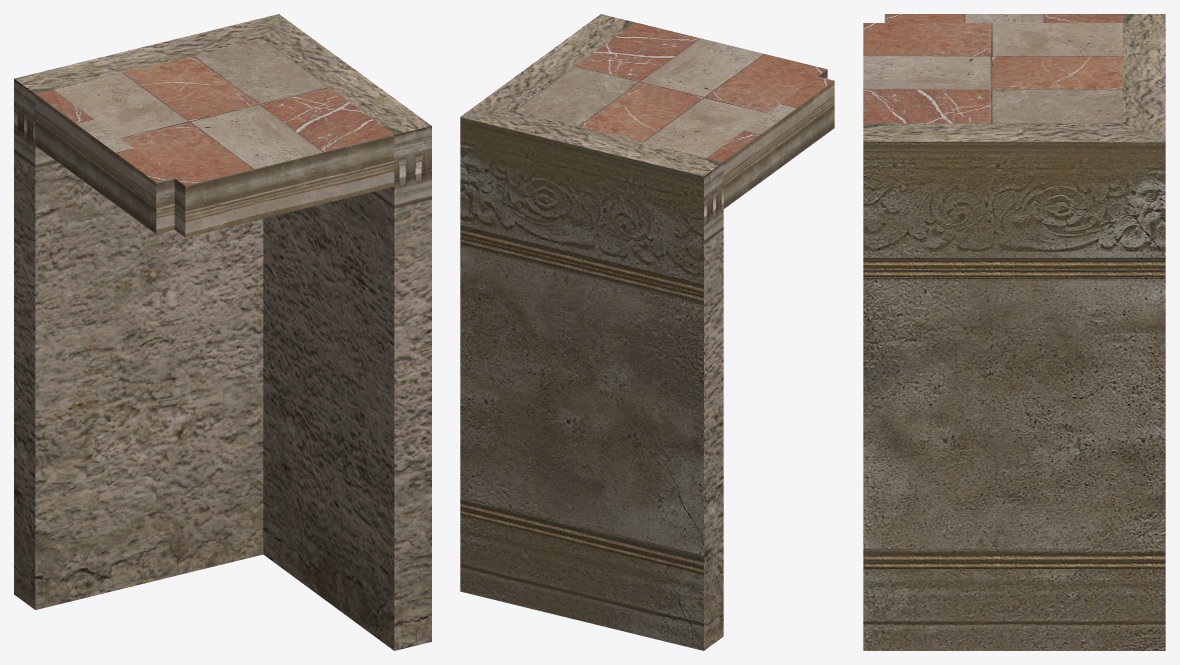
File: SH3D_Sparta_BalcWall5.obj
3 renders of one model, left to right at view 1: azimuth 30°, elevation 25°; view 2: azimuth 150°, elevation 25°; view 3: azimuth 270°, elevation 25°, orthographic. The views are drawn at different scales.
Visible parts, largest first — view 1: Base_ExtWall_Sparta0, Base_Floor2_Sparta0, Base_StepsRails_Sparta0; view 2: Base_IntWall_Sparta0, Base_Floor2_Sparta0, Base_ExtWall_Sparta0, Base_StepsRails_Sparta0; view 3: Base_IntWall_Sparta0, Base_Floor2_Sparta0, Base_ExtWall_Sparta0.
Part boxes in pixels (bbox=[...]): Base_ExtWall_Sparta0: bbox=[14, 14, 431, 650]; Base_Floor2_Sparta0: bbox=[35, 38, 393, 185]; Base_StepsRails_Sparta0: bbox=[35, 94, 394, 237]; Base_IntWall_Sparta0: bbox=[460, 117, 703, 650]; Base_Floor2_Sparta0: bbox=[514, 22, 834, 161]; Base_ExtWall_Sparta0: bbox=[460, 14, 723, 650]; Base_StepsRails_Sparta0: bbox=[723, 69, 834, 208]; Base_IntWall_Sparta0: bbox=[863, 141, 1165, 650]; Base_Floor2_Sparta0: bbox=[863, 14, 1123, 123]; Base_ExtWall_Sparta0: bbox=[863, 14, 1165, 141].
Bounding box in the file's own units: 215 × 400 × 215.
Materials: 5 (5 with a texture image).
